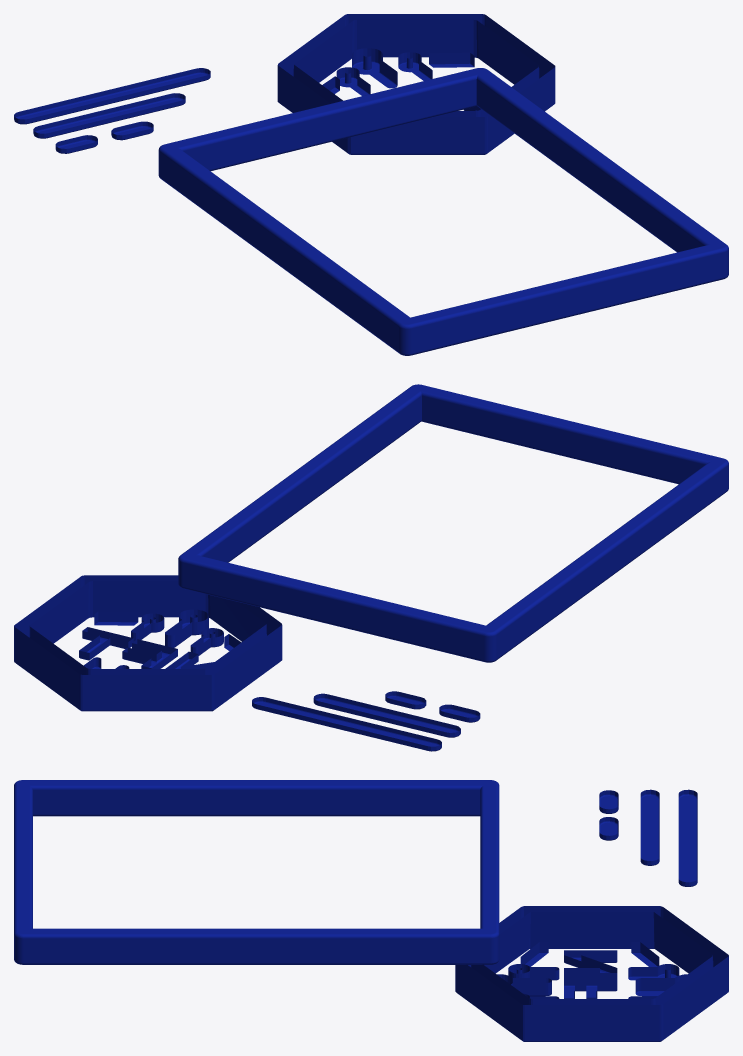
Rendered from 2_door__outline1.obj.
3 renders of one model, top to bottom at view 1: azimuth 30°, elevation 25°; view 2: azimuth 150°, elevation 25°; view 3: azimuth 270°, elevation 25°, orthographic. The views are drawn at different scales.
Parts seen in each view (by area): view 1: 2_door__outline1; view 2: 2_door__outline1; view 3: 2_door__outline1.
Boxes of the visible parts, <box> form: 2_door__outline1: <box>14,14,728,355</box>; 2_door__outline1: <box>14,384,728,751</box>; 2_door__outline1: <box>14,780,728,1041</box>.
Bounding box in the file's own units: 0.0919 × 0.0135 × 0.1279.
